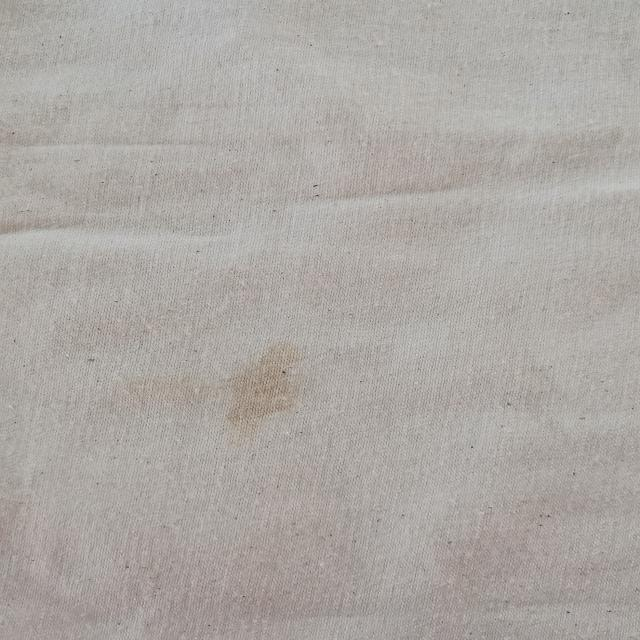taaaches: (212, 339, 332, 448)
